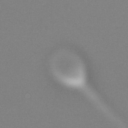normal: (79, 81, 128, 128)
